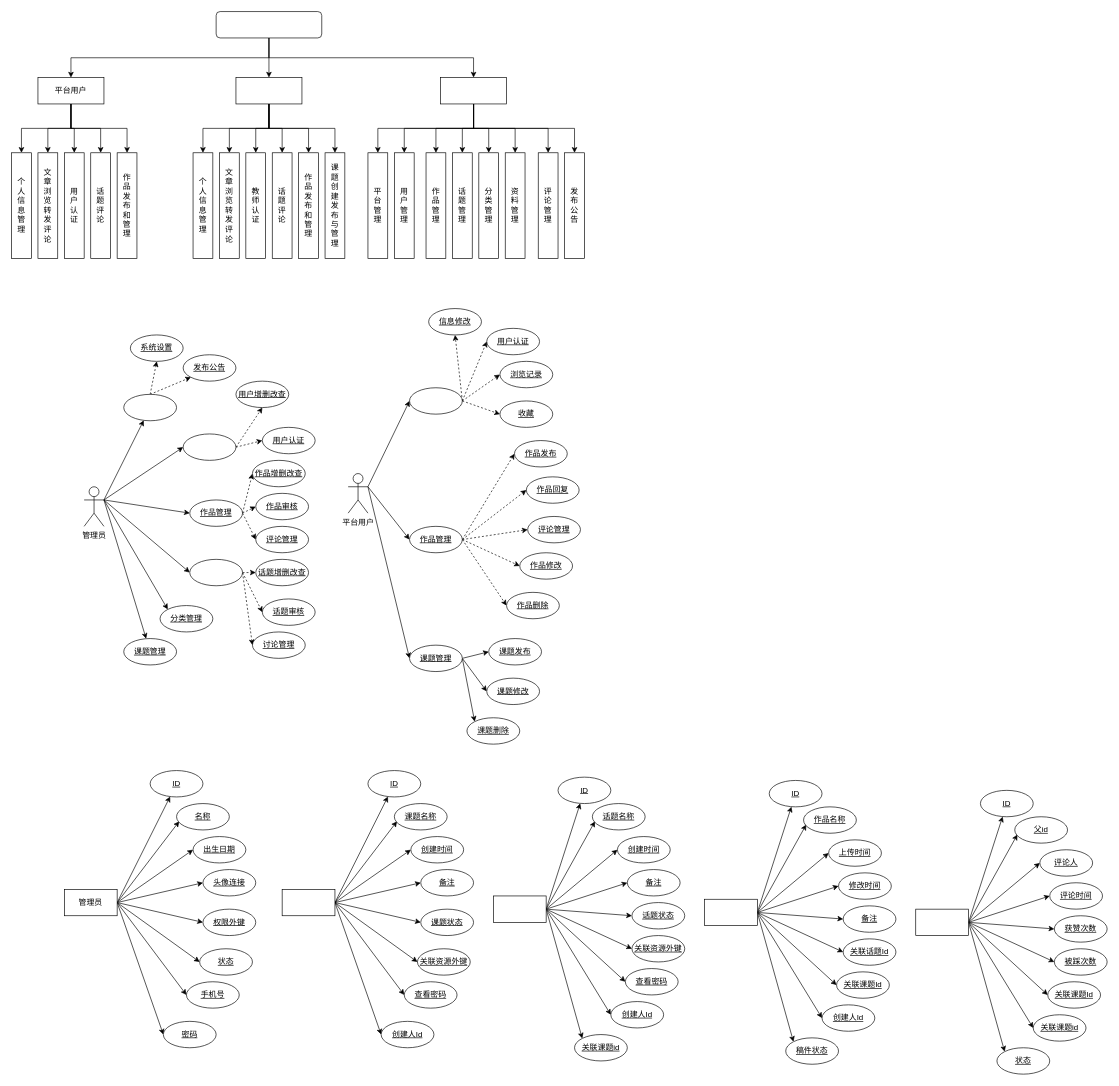
The diagram is 1119 pixels wide and 1086 high, and some of its shapes have lost their labels. Each missing label, with the box of its shape:
个人管理: (409, 387, 462, 414)
作品稿件: (704, 899, 757, 926)
平台管理: (123, 394, 177, 421)
教师用户: (235, 77, 302, 104)
用户管理: (182, 433, 236, 460)
管理员用户: (440, 77, 507, 104)
评论: (915, 908, 969, 936)
话题: (493, 895, 546, 922)
话题管理: (189, 559, 243, 586)
课题: (281, 889, 335, 916)
高校知识分享平台: (215, 11, 322, 38)
